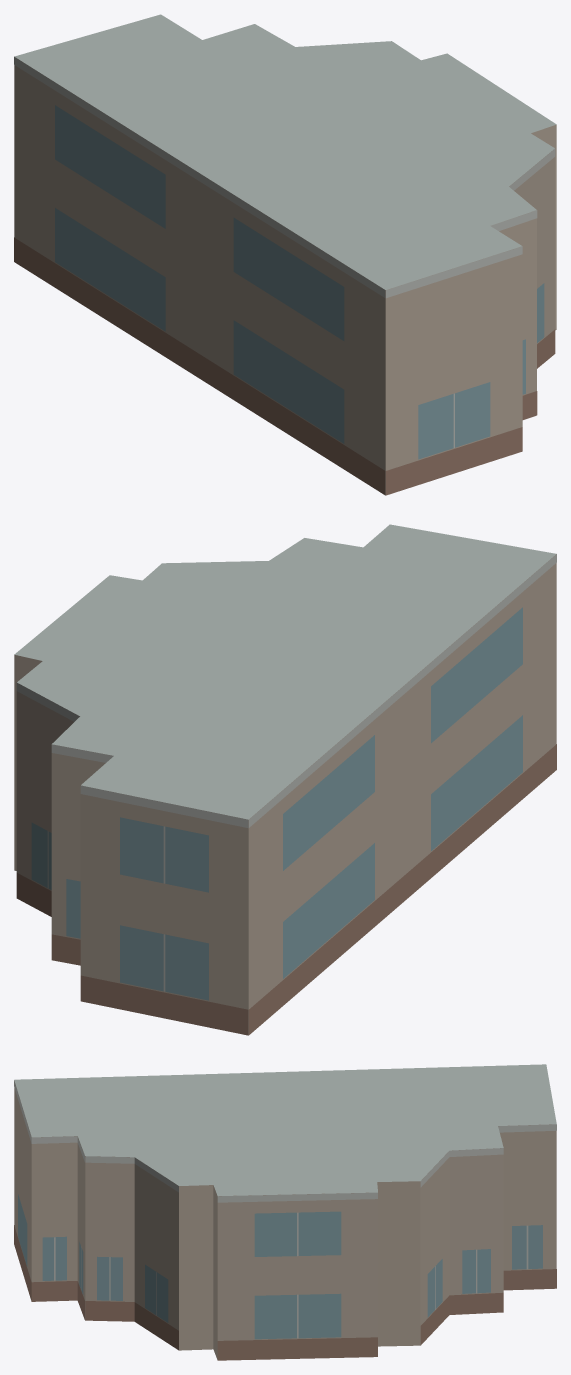
File: survey-upis-32920007.glb
The picture shows the model from 3 angles, top to bottom: view 1: azimuth 30°, elevation 25°; view 2: azimuth 150°, elevation 25°; view 3: azimuth 270°, elevation 25°; orthographic projection. The views are drawn at different scales.
Visible parts, largest first — view 1: survey-upis-32920007.tmp; view 2: survey-upis-32920007.tmp; view 3: survey-upis-32920007.tmp.
Part boxes in pixels (left/top/right/bottom): survey-upis-32920007.tmp: left=14, top=14, right=556, bottom=495; survey-upis-32920007.tmp: left=14, top=524, right=556, bottom=1035; survey-upis-32920007.tmp: left=14, top=1064, right=556, bottom=1360.
Size of the model in its own units: 10.5 by 6.1 by 18.26.
